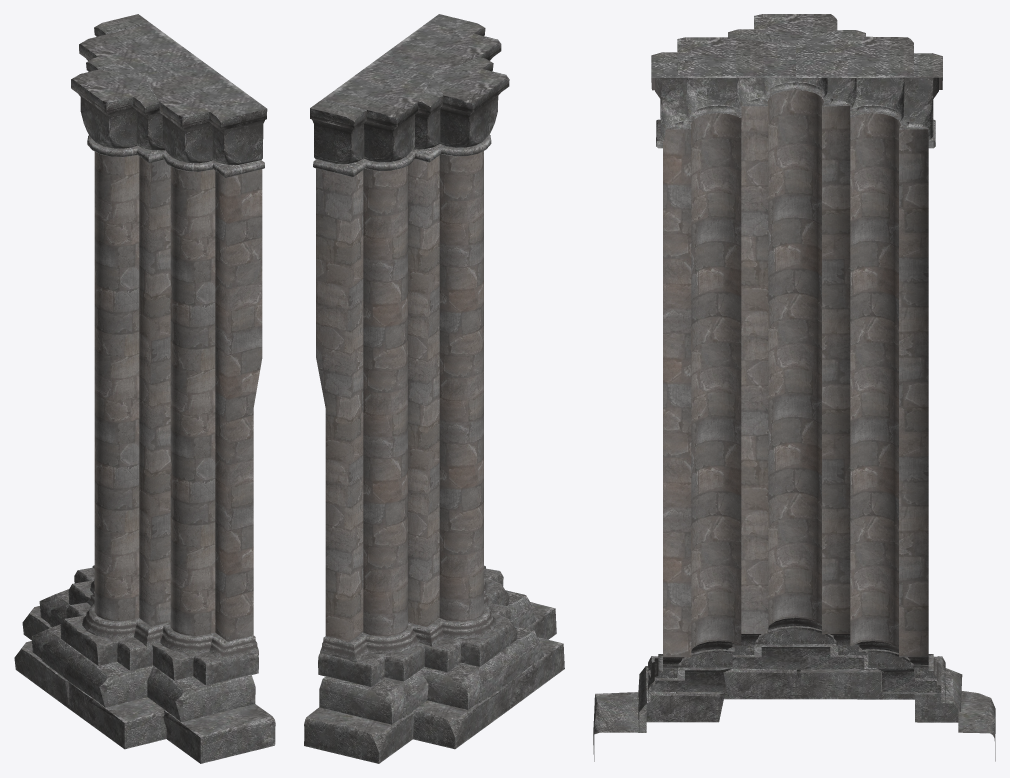
3 renders of one model, left to right at view 1: azimuth 30°, elevation 25°; view 2: azimuth 150°, elevation 25°; view 3: azimuth 270°, elevation 25°, orthographic. The views are drawn at different scales.
Parts seen in each view (by area): view 1: SM_Pillaster03_LOD0; view 2: SM_Pillaster03_LOD0; view 3: SM_Pillaster03_LOD0.
Part boxes in pixels (bbox=[...]): SM_Pillaster03_LOD0: bbox=[14, 14, 275, 763]; SM_Pillaster03_LOD0: bbox=[304, 14, 564, 763]; SM_Pillaster03_LOD0: bbox=[593, 14, 995, 761].
Size of the model in its own units: 1.64 by 6.99 by 3.67.
2 materials, 2 textured.
